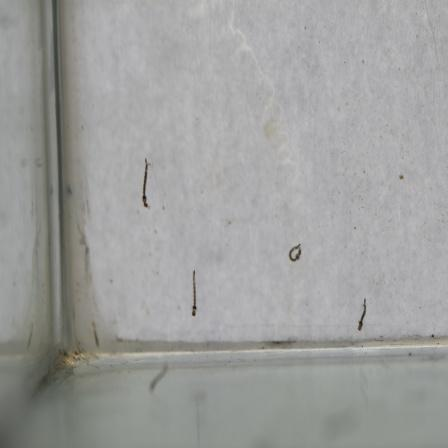Jentik-Nyamuk: (136, 154, 155, 211), (187, 266, 201, 322), (352, 295, 372, 332), (287, 240, 303, 266)
